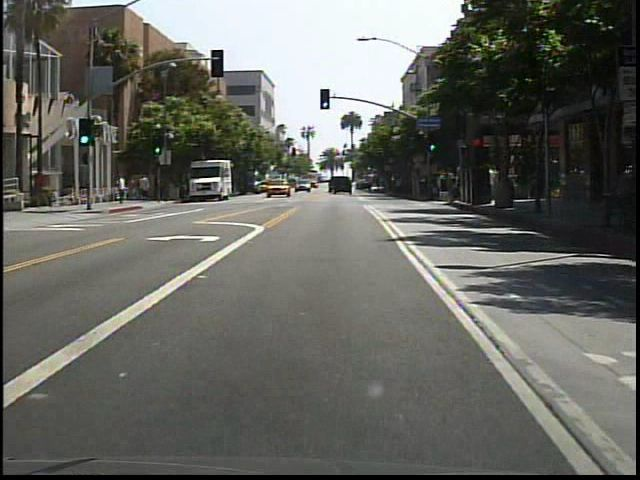person: (116, 174, 129, 207), (140, 172, 154, 201), (66, 183, 81, 208), (128, 177, 140, 202)
